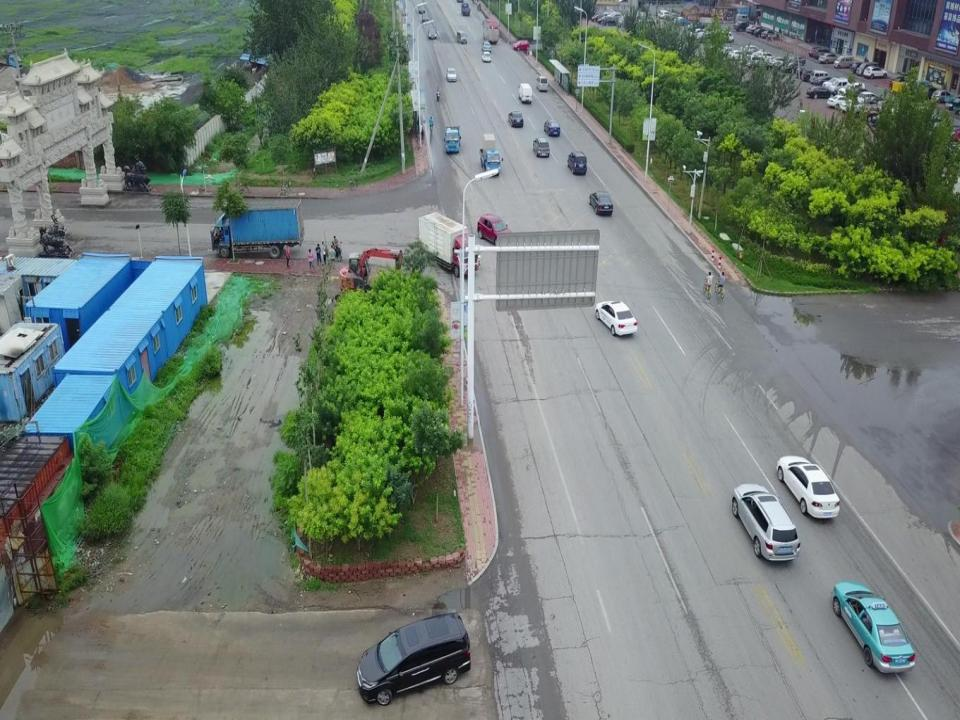bus: (481, 19, 498, 44)
car: (358, 612, 471, 706), (832, 580, 916, 676), (732, 483, 800, 561), (776, 456, 839, 520), (595, 299, 638, 338), (477, 213, 513, 248), (589, 190, 613, 215), (568, 151, 588, 174), (857, 92, 883, 108), (866, 108, 894, 122), (909, 80, 933, 96), (873, 111, 900, 125), (826, 95, 852, 109), (838, 83, 865, 96), (807, 86, 836, 98), (543, 118, 560, 137), (533, 136, 549, 156), (919, 84, 939, 100), (932, 88, 954, 102), (508, 110, 524, 127), (856, 62, 878, 74), (865, 66, 887, 78), (824, 77, 844, 90), (819, 53, 841, 64), (815, 48, 835, 59), (815, 76, 834, 87), (513, 39, 530, 51), (852, 62, 868, 74), (810, 47, 826, 57), (446, 69, 457, 81), (481, 51, 492, 62), (481, 41, 491, 52), (421, 12, 430, 24), (427, 28, 436, 40), (418, 4, 426, 14)
truck: (210, 198, 305, 258), (418, 210, 478, 278), (479, 146, 503, 176), (443, 126, 461, 154), (460, 3, 471, 16)
van: (830, 79, 852, 93), (810, 68, 829, 84), (518, 83, 532, 103), (834, 56, 854, 68), (536, 76, 548, 92), (457, 30, 467, 43)
